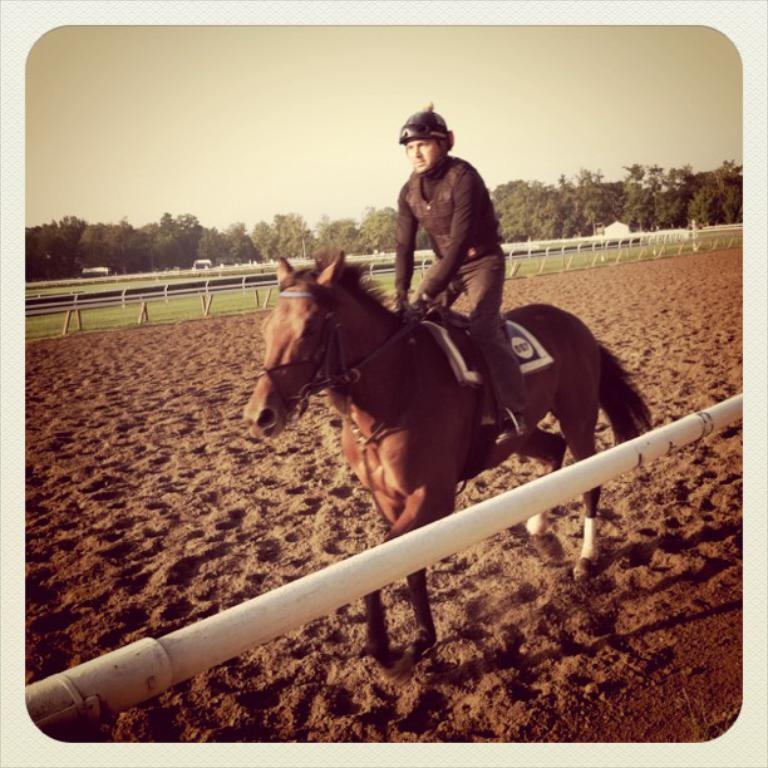Person: (392, 101, 530, 444)
